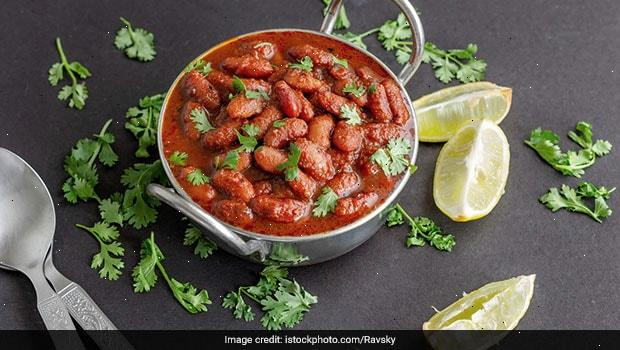rajma: (173, 33, 401, 219)
